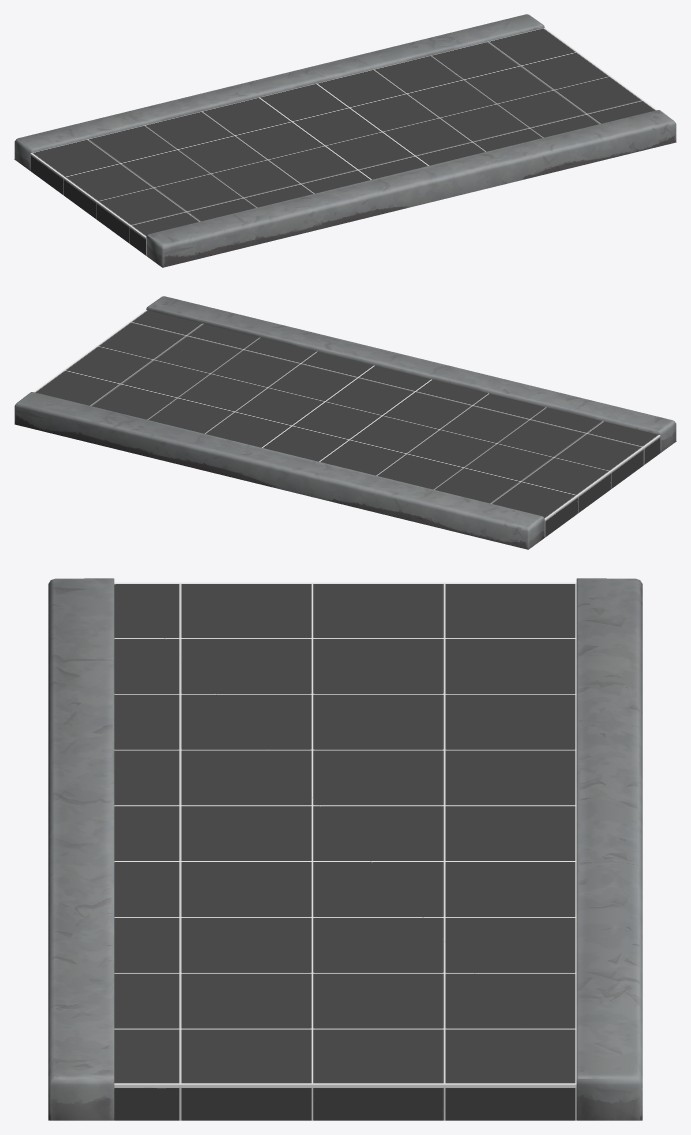
Rendered from M02SideWalk03_8.FBX.
3 views of the same model, one above another, from view 1: azimuth 30°, elevation 25°; view 2: azimuth 150°, elevation 25°; view 3: azimuth 270°, elevation 25° (orthographic). The views are drawn at different scales.
Visible parts, largest first — view 1: M02SideWalk03_8; view 2: M02SideWalk03_8; view 3: M02SideWalk03_8.
Boxes of the visible parts, left/top/right/bottom form: M02SideWalk03_8: left=14, top=14, right=676, bottom=267; M02SideWalk03_8: left=14, top=296, right=676, bottom=549; M02SideWalk03_8: left=48, top=578, right=642, bottom=1120.
Size of what is drawn, in the model's own units: 4.5 by 0.1783 by 2.25.
